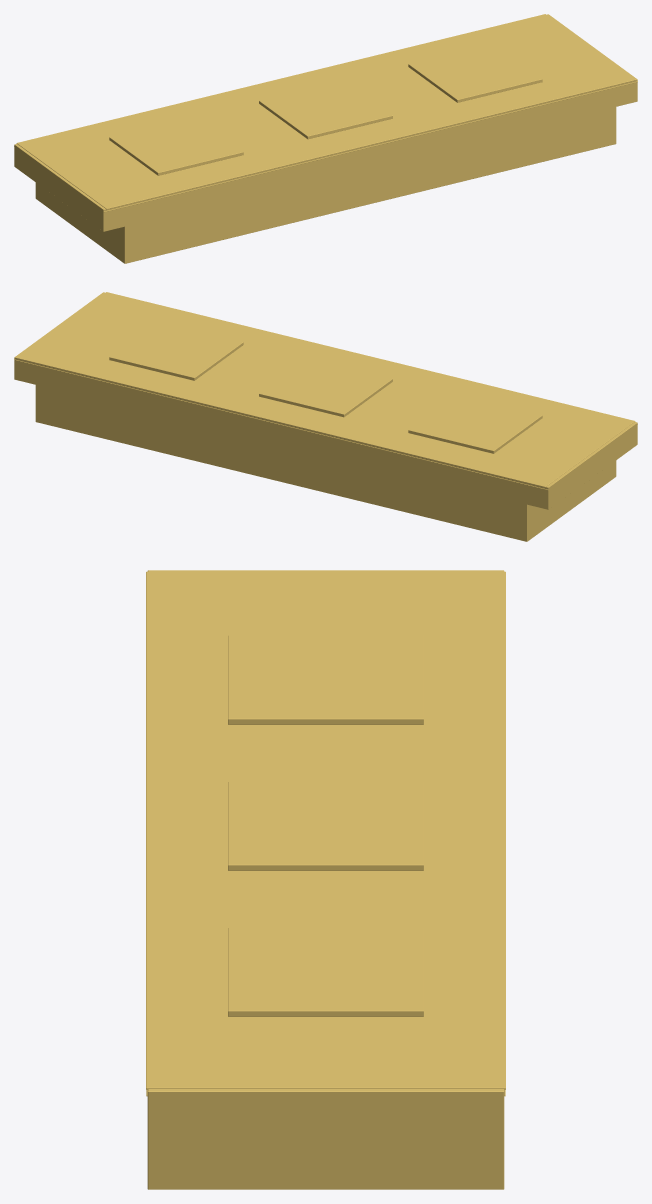
File: SM_Hull_90x12x26.glb
3 renders of one model, top to bottom at view 1: azimuth 30°, elevation 25°; view 2: azimuth 150°, elevation 25°; view 3: azimuth 270°, elevation 25°, orthographic. The views are drawn at different scales.
Visible parts, largest first — view 1: SM_Hull_90x12x26; view 2: SM_Hull_90x12x26; view 3: SM_Hull_90x12x26.
Part boxes in pixels (box(x1,y1,x2,y2)): SM_Hull_90x12x26: box(14, 14, 637, 263); SM_Hull_90x12x26: box(14, 292, 637, 541); SM_Hull_90x12x26: box(146, 570, 505, 1189).
Bounding box in the file's own units: 90 × 10.21 × 26.26.
